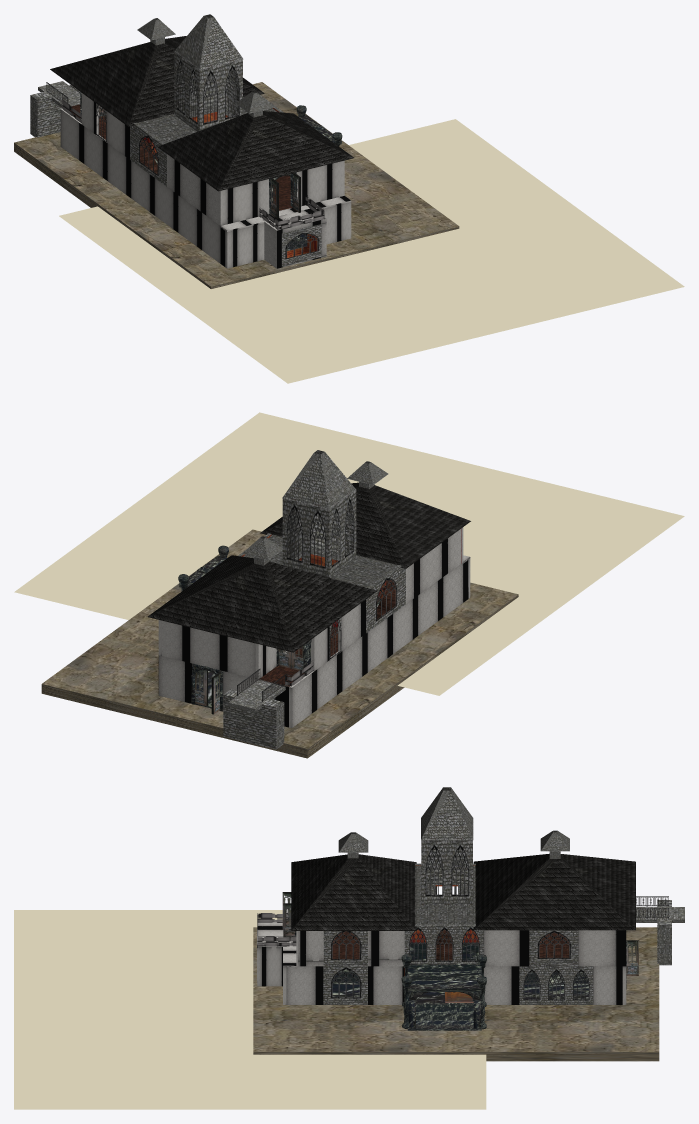
3 views of the same model, one above another, from view 1: azimuth 30°, elevation 25°; view 2: azimuth 150°, elevation 25°; view 3: azimuth 270°, elevation 25° (orthographic). The views are drawn at different scales.
Visible parts, largest first — view 1: Terrain 0,7, gothic house roof (×2), GOTHIC HOUSE BASE, gothic house wall (×6), GOTHIC HOUSE BACK WALL, gothic house tower, Gothic House With Fireplace, gothic house tower top, gothic house window, GOTHIC HOUSE BACK TERRACE, GOTHIC HOUSE ROOF, GOTHIC HOUSE ROMEO BALCONY (+2 smaller); view 2: Terrain 0,7, GOTHIC HOUSE BASE, gothic house roof (×2), GOTHIC HOUSE BACK WALL, Gothic House With Fireplace, gothic house tower, gothic house tower top (×3), gothic house wall (×2), GOTHIC HOUSE BACK TERRACE, GOTHIC HOUSE ROOF, GOTHIC HOUSE ground floor, wall (×2) (+2 smaller); view 3: Terrain 0,7, GOTHIC HOUSE BASE, gothic house roof (×2), gothic house wall (×7), gothic house window (×5), Gothic House With Fireplace, gothic house tower top (×3), gothic house tower, gothic porch, GOTHIC HOUSE ROOF, GOTHIC HOUSE 1st floor, GOTHIC HOUSE PORCH (+5 smaller).
Part boxes in pixels (left/top/right/bottom): Terrain 0,7: left=59, top=119, right=684, bottom=383; gothic house roof (×2): left=50, top=36, right=353, bottom=191; GOTHIC HOUSE BASE: left=14, top=82, right=459, bottom=288; gothic house wall (×6): left=130, top=122, right=351, bottom=268; GOTHIC HOUSE BACK WALL: left=60, top=108, right=225, bottom=266; gothic house tower: left=174, top=51, right=242, bottom=131; Gothic House With Fireplace: left=46, top=82, right=324, bottom=266; gothic house tower top: left=174, top=14, right=243, bottom=69; gothic house window: left=263, top=208, right=326, bottom=268; GOTHIC HOUSE BACK TERRACE: left=30, top=85, right=80, bottom=137; GOTHIC HOUSE ROOF: left=137, top=97, right=276, bottom=143; GOTHIC HOUSE ROMEO BALCONY: left=220, top=196, right=351, bottom=231; Terrain 0,7: left=14, top=412, right=684, bottom=695; GOTHIC HOUSE BASE: left=41, top=529, right=518, bottom=758; gothic house roof (×2): left=147, top=482, right=470, bottom=652; GOTHIC HOUSE BACK WALL: left=289, top=560, right=468, bottom=727; Gothic House With Fireplace: left=162, top=587, right=395, bottom=727; gothic house tower: left=282, top=489, right=356, bottom=577; gothic house tower top (×3): left=242, top=450, right=388, bottom=560; gothic house wall (×2): left=366, top=529, right=461, bottom=633; GOTHIC HOUSE BACK TERRACE: left=223, top=689, right=284, bottom=749; GOTHIC HOUSE ROOF: left=243, top=534, right=397, bottom=587; GOTHIC HOUSE ground floor: left=158, top=655, right=191, bottom=703; wall (×2): left=255, top=626, right=329, bottom=679; Terrain 0,7: left=14, top=910, right=486, bottom=1109; GOTHIC HOUSE BASE: left=253, top=927, right=659, bottom=1061; gothic house roof (×2): left=291, top=853, right=635, bottom=930; gothic house wall (×7): left=286, top=924, right=622, bottom=1004; gothic house window (×5): left=257, top=922, right=593, bottom=1004; Gothic House With Fireplace: left=257, top=896, right=668, bottom=1002; gothic house tower top (×3): left=338, top=787, right=569, bottom=852; gothic house tower: left=421, top=840, right=472, bottom=905; gothic porch: left=407, top=963, right=481, bottom=991; GOTHIC HOUSE ROOF: left=415, top=865, right=475, bottom=924; GOTHIC HOUSE 1st floor: left=578, top=930, right=626, bottom=966; GOTHIC HOUSE PORCH: left=407, top=1003, right=481, bottom=1030.
Bounding box in the file's own units: 64 × 28.97 × 90.89.
37 materials, 36 textured.
